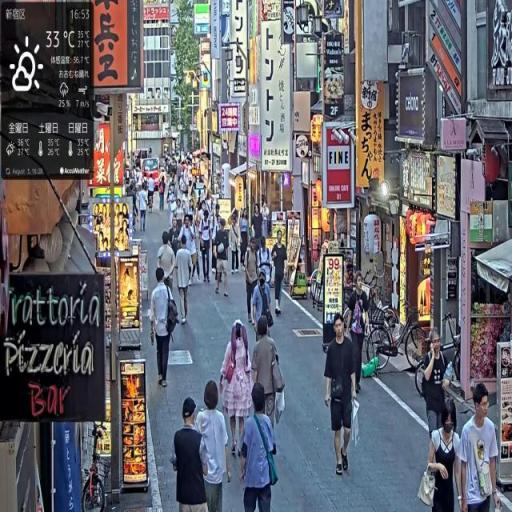person: (459, 380, 507, 512)
